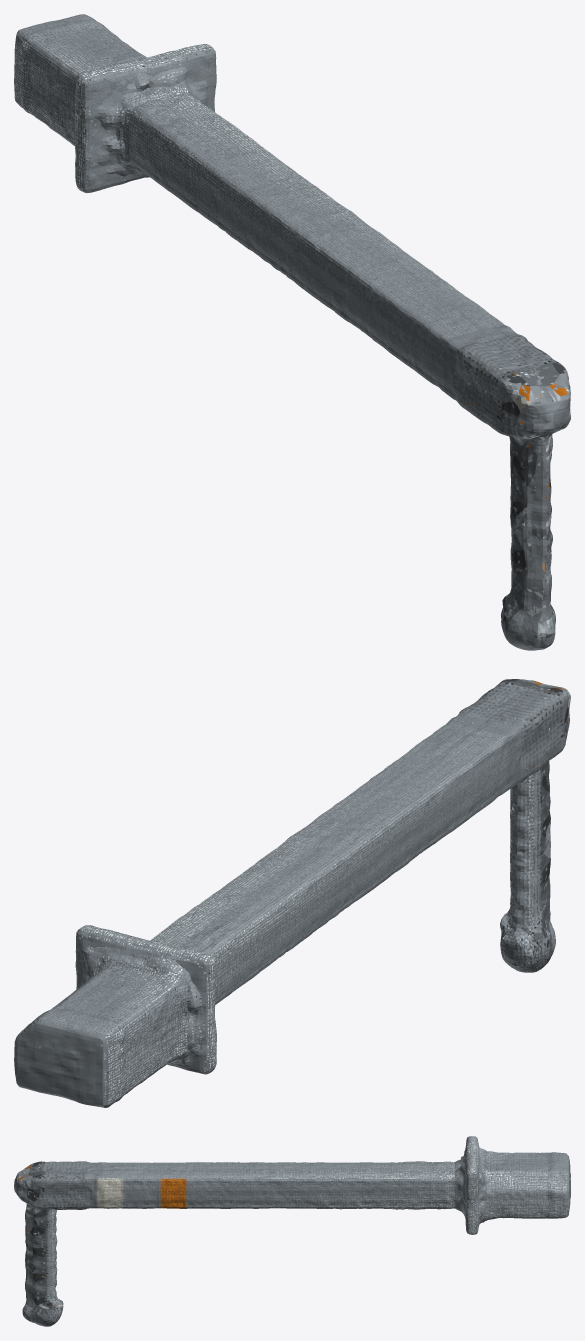
3 renders of one model, top to bottom at view 1: azimuth 30°, elevation 25°; view 2: azimuth 150°, elevation 25°; view 3: azimuth 270°, elevation 25°, orthographic. The views are drawn at different scales.
Size of the model in its own units: 0.035 by 0.0753 by 0.2197.
Materials: 1 (1 with a texture image).
